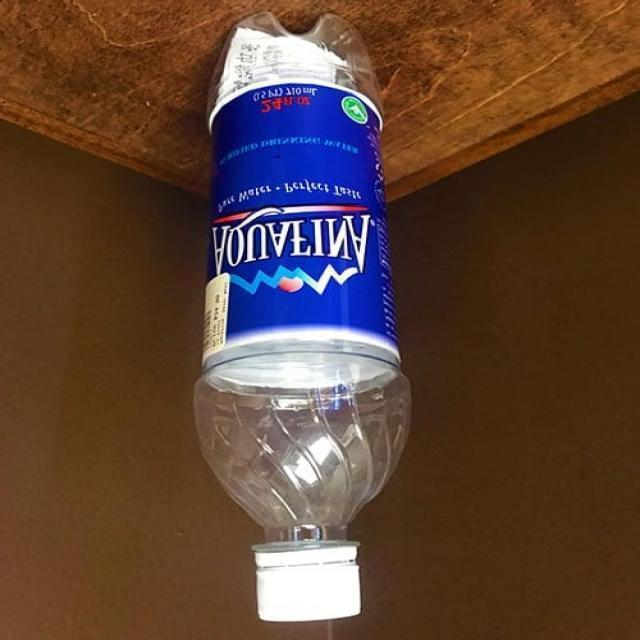plastic_bottle: (192, 12, 412, 621)
